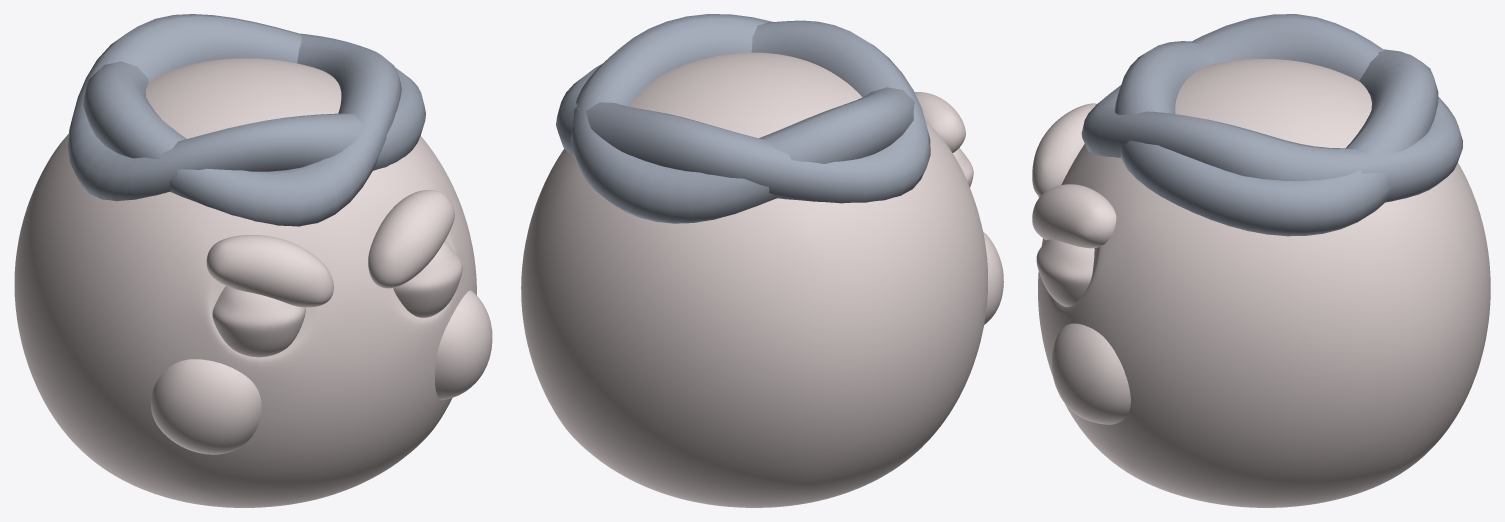
Rendered from Mob_liane.glb.
The picture shows the model from 3 angles, left to right: view 1: azimuth 30°, elevation 25°; view 2: azimuth 150°, elevation 25°; view 3: azimuth 270°, elevation 25°; orthographic projection.
Parts seen in each view (by area): view 1: Mob_2, Item_liane_merge1; view 2: Mob_2, Item_liane_merge1; view 3: Mob_2, Item_liane_merge1.
Part boxes in pixels (<box>): Mob_2: <box>14,58,492,507</box>; Item_liane_merge1: <box>67,14,425,226</box>; Mob_2: <box>521,52,1003,507</box>; Item_liane_merge1: <box>556,14,930,223</box>; Mob_2: <box>1032,58,1490,507</box>; Item_liane_merge1: <box>1081,14,1462,236</box>.
Size of the model in its own units: 0.8956 by 0.8729 by 0.9066.
